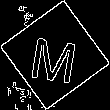M_N: (28, 26, 82, 84)
